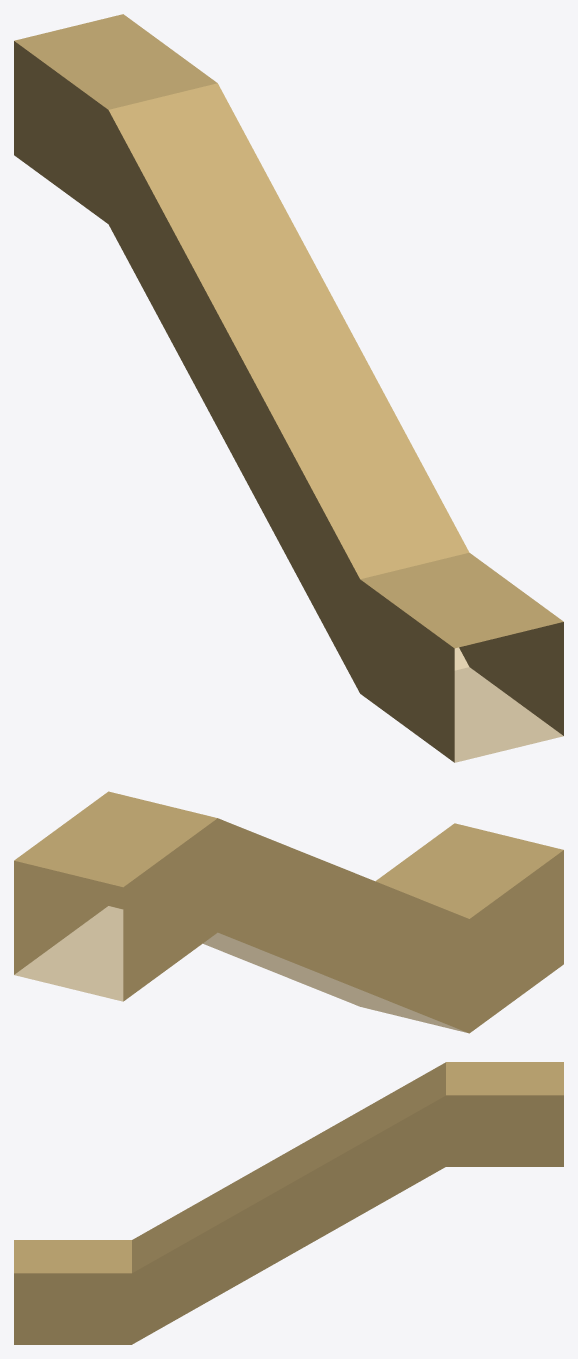
The model's file is Hallway005.fbx.
3 renders of one model, top to bottom at view 1: azimuth 30°, elevation 25°; view 2: azimuth 150°, elevation 25°; view 3: azimuth 270°, elevation 25°, orthographic. The views are drawn at different scales.
Parts seen in each view (by area): view 1: Cube; view 2: Cube; view 3: Cube.
Boxes of the visible parts, x1,y1,x2,y2 form: Cube: [14, 14, 563, 762]; Cube: [14, 791, 563, 1033]; Cube: [14, 1062, 563, 1344].
Size of the model in its own units: 400 by 1397 by 2792.
